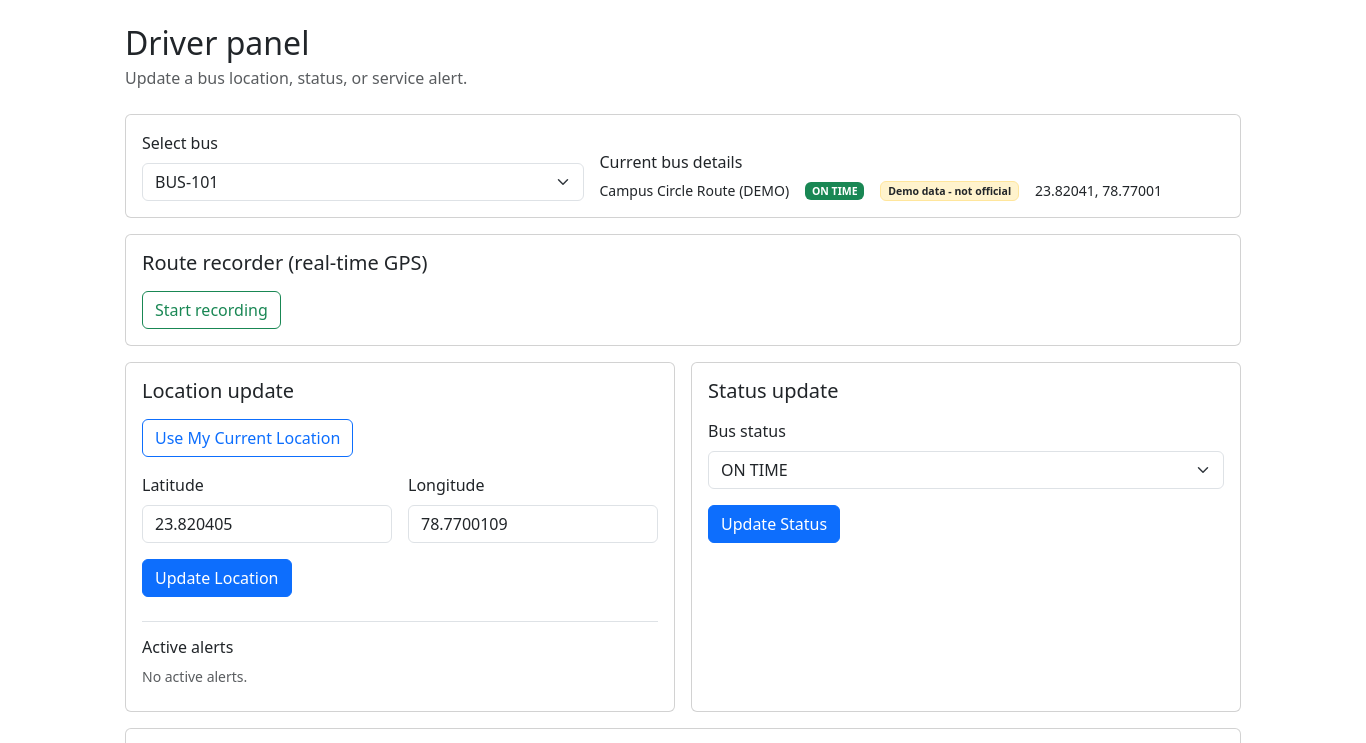
Test: DriverPanelPage › shows GPS failure inline without leaving recording active
The image size is (1366, 743).
Expected: the heading "Driver panel" is shown, [125,21,309,64]
Click the button "Start recording": [211, 310] box [142,291,281,329]
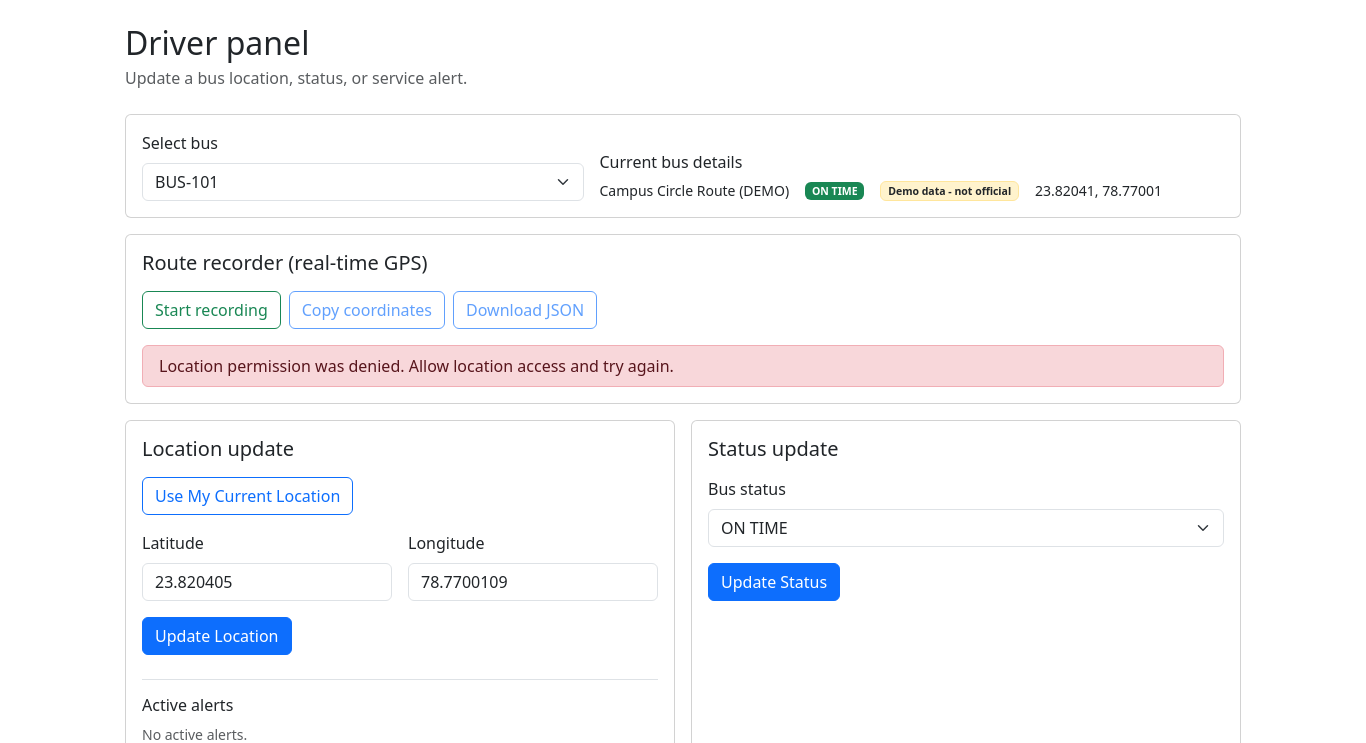
Now the message reads "Location permission was denied. Allow location access and try again.", box [159,355,674,377]
